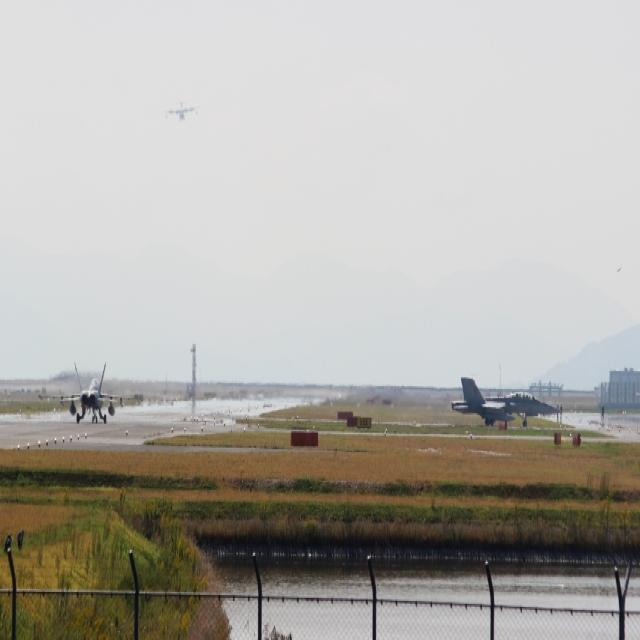MIL_Plane: (37, 362, 144, 425), (451, 377, 561, 428), (164, 101, 200, 123)
